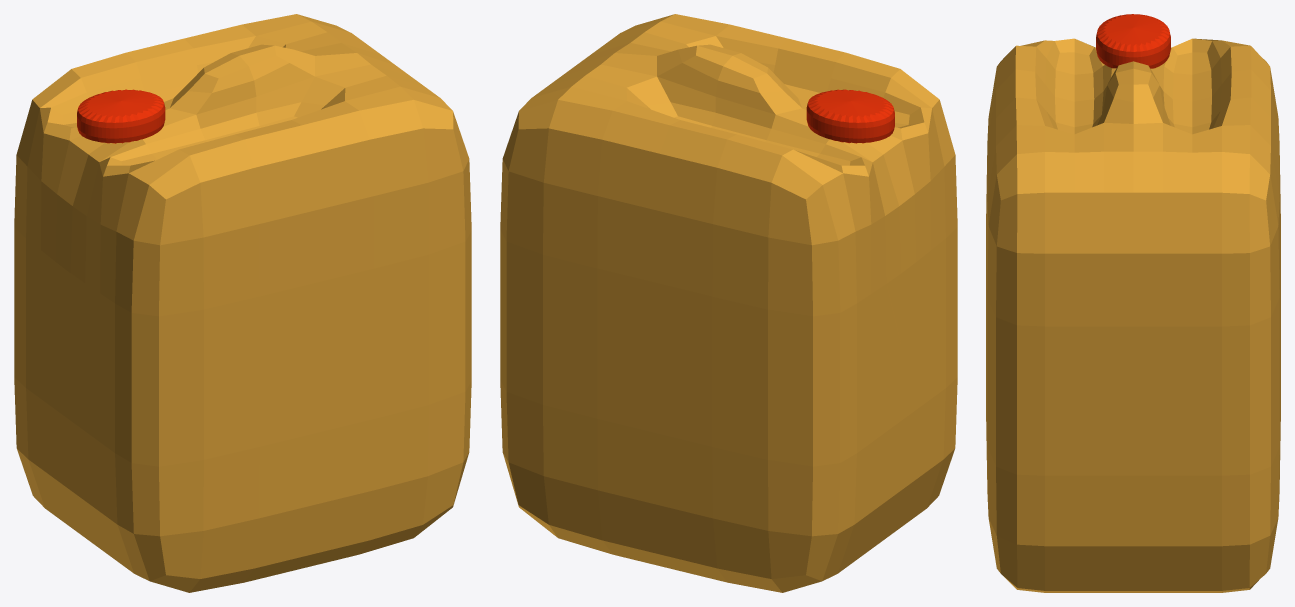
The model's file is FuelCan.fbx.
3 views of the same model, side by side, from view 1: azimuth 30°, elevation 25°; view 2: azimuth 150°, elevation 25°; view 3: azimuth 270°, elevation 25° (orthographic).
Visible parts, largest first — view 1: Cube.003; view 2: Cube.003; view 3: Cube.003.
Part boxes in pixels (bbox=[...]): Cube.003: bbox=[14, 14, 471, 592]; Cube.003: bbox=[500, 14, 957, 592]; Cube.003: bbox=[986, 14, 1280, 592].
Bounding box in the file's own units: 97.41 × 128 × 72.53.
